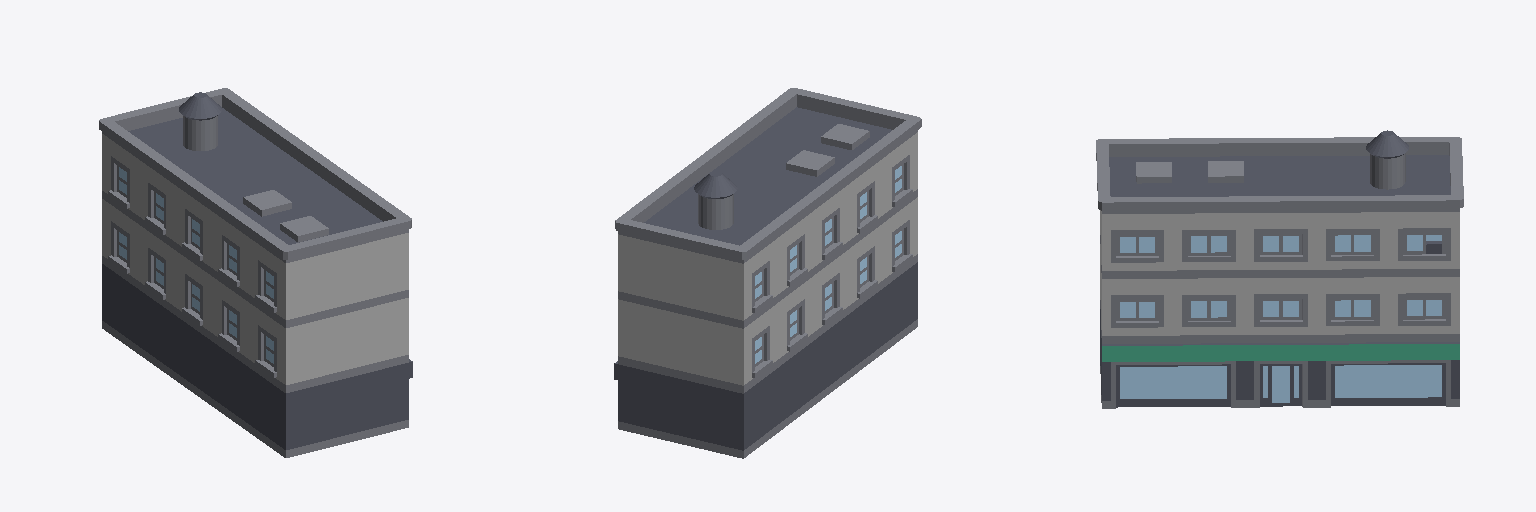
Rendered from large_buildingF.obj.
3 views of the same model, side by side, from view 1: azimuth 30°, elevation 25°; view 2: azimuth 150°, elevation 25°; view 3: azimuth 270°, elevation 25° (orthographic).
Visible parts, largest first — view 1: large_buildingF.002; view 2: large_buildingF.002; view 3: large_buildingF.002.
Part boxes in pixels (x1,y1,x2,y2): large_buildingF.002: (99,88,412,457); large_buildingF.002: (614,88,921,458); large_buildingF.002: (1096,130,1463,408).
Size of the model in its own units: 12.86 by 22.09 by 30.2.